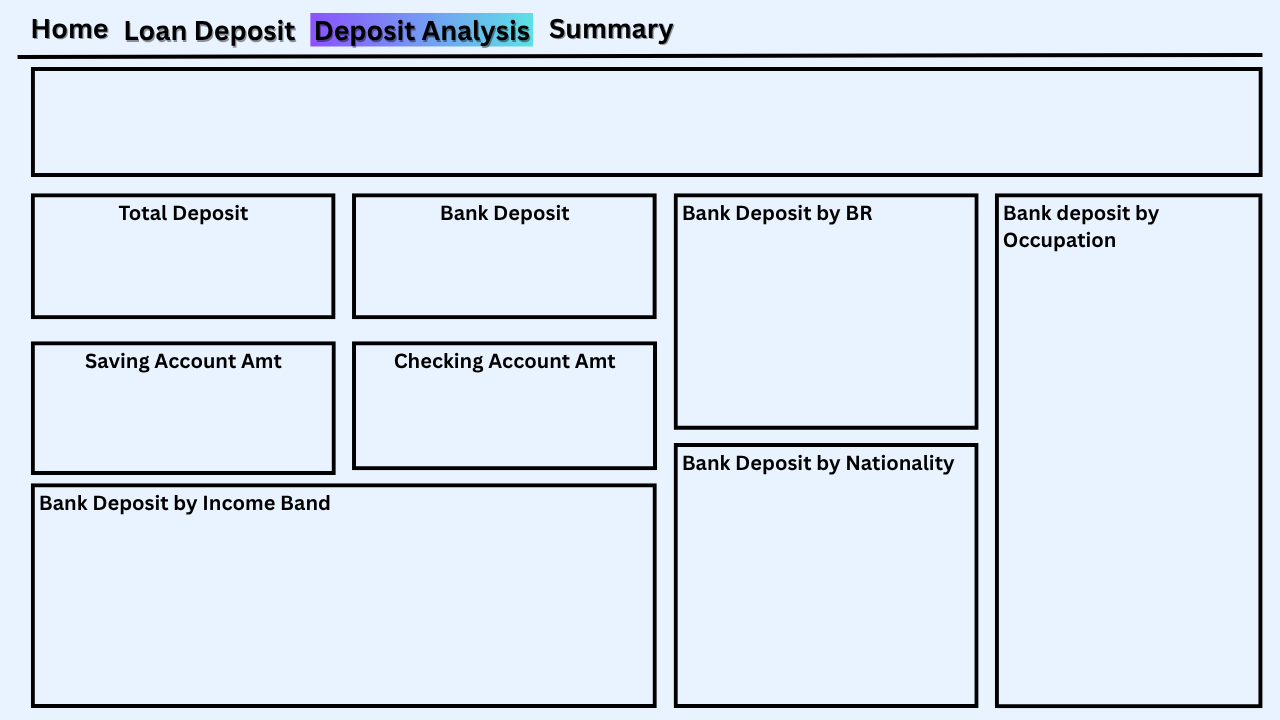

This screenshot's page, from the dashboard's own definition file:
{"tool":"powerbi","page":{"name":"Page 3","canvas":[1280,720],"ordinal":2},"visuals":[{"type":"slicer","fields":{"Values":["Banking_Clients.BRId"]},"box":[20.6,63.1,927.6,111.1],"z":0},{"type":"slicer","fields":{"Values":["Banking_Clients.GenderId"]},"box":[908.4,64.5,360.9,111.1],"z":1000},{"type":"card","fields":{"Values":["Banking_Clients.Total Deposits"]},"box":[38.4,233.3,299.1,67.2],"z":2000},{"type":"card","fields":{"Values":["Sum(Banking_Clients.Bank Deposits)"]},"box":[358.1,233.3,299.1,67.2],"z":3000},{"type":"card","fields":{"Values":["Sum(Banking_Clients.Saving Accounts)"]},"box":[38.4,387,299.1,67.2],"z":4000},{"type":"card","fields":{"Values":["Sum(Banking_Clients.Checking Accounts)"]},"box":[358.1,387,299.1,67.2],"z":5000},{"type":"donutChart","fields":{"Category":["Banking_Clients.Income Band"],"Y":["Sum(Banking_Clients.Bank Deposits)"]},"box":[59,510.5,570.8,189.4],"z":6000},{"type":"columnChart","fields":{"Y":["Sum(Banking_Clients.Bank Deposits)"],"Category":["Banking_Clients.BRId"]},"box":[669.6,233.3,319.7,188],"z":7000},{"type":"columnChart","fields":{"Y":["Sum(Banking_Clients.Bank Deposits)"],"Category":["Banking_Clients.Nationality"]},"box":[680.6,478.9,308.7,219.6],"z":8000},{"type":"clusteredBarChart","fields":{"Category":["Banking_Clients.Occupation"],"Y":["Sum(Banking_Clients.Bank Deposits)"]},"box":[989.4,244.3,290.9,454.2],"z":9000},{"type":"actionButton","box":[118,11,185.2,39.8],"z":10000},{"type":"actionButton","box":[20.6,0,97.4,50.8],"z":11000},{"type":"actionButton","box":[537.9,4.1,142.7,46.7],"z":12000},{"type":"slicer","fields":{"Values":["Banking_Clients.Joined Bank.Variation.Date Hierarchy.Year"]},"box":[662.5,0,617.5,48],"z":13000}]}

Visuals, with their boxes in screenshot pixels (x1, y1, x2, y2), scaled from the page's 1280x720 canvas onto the 1280x720 screenshot:
slicer - Banking_Clients.BRId: 21/63/948/174
slicer - Banking_Clients.GenderId: 908/64/1269/176
card - Banking_Clients.Total Deposits: 38/233/338/300
card - Sum(Banking_Clients.Bank Deposits): 358/233/657/300
card - Sum(Banking_Clients.Saving Accounts): 38/387/338/454
card - Sum(Banking_Clients.Checking Accounts): 358/387/657/454
donutChart - Banking_Clients.Income Band x Sum(Banking_Clients.Bank Deposits): 59/510/630/700
columnChart - Sum(Banking_Clients.Bank Deposits) x Banking_Clients.BRId: 670/233/989/421
columnChart - Sum(Banking_Clients.Bank Deposits) x Banking_Clients.Nationality: 681/479/989/698
clusteredBarChart - Banking_Clients.Occupation x Sum(Banking_Clients.Bank Deposits): 989/244/1279/698
actionButton: 118/11/303/51
actionButton: 21/0/118/51
actionButton: 538/4/681/51
slicer - Banking_Clients.Joined Bank.Variation.Date Hierarchy.Year: 662/0/1279/48
